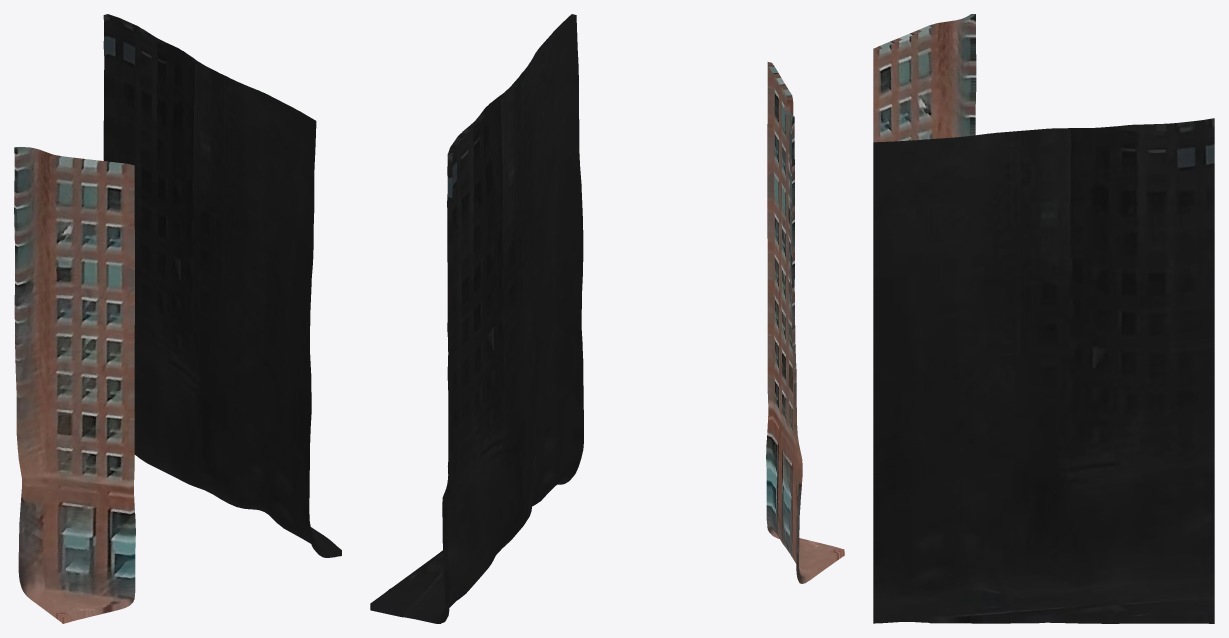
Rendered from z20-167777-405232-h0-yup-uvflip-v3-world.glb.
3 renders of one model, left to right at view 1: azimuth 30°, elevation 25°; view 2: azimuth 150°, elevation 25°; view 3: azimuth 270°, elevation 25°, orthographic. The views are drawn at different scales.
Size of the model in its own units: 30.2 by 45.68 by 30.32.
1 material, 1 textured.
